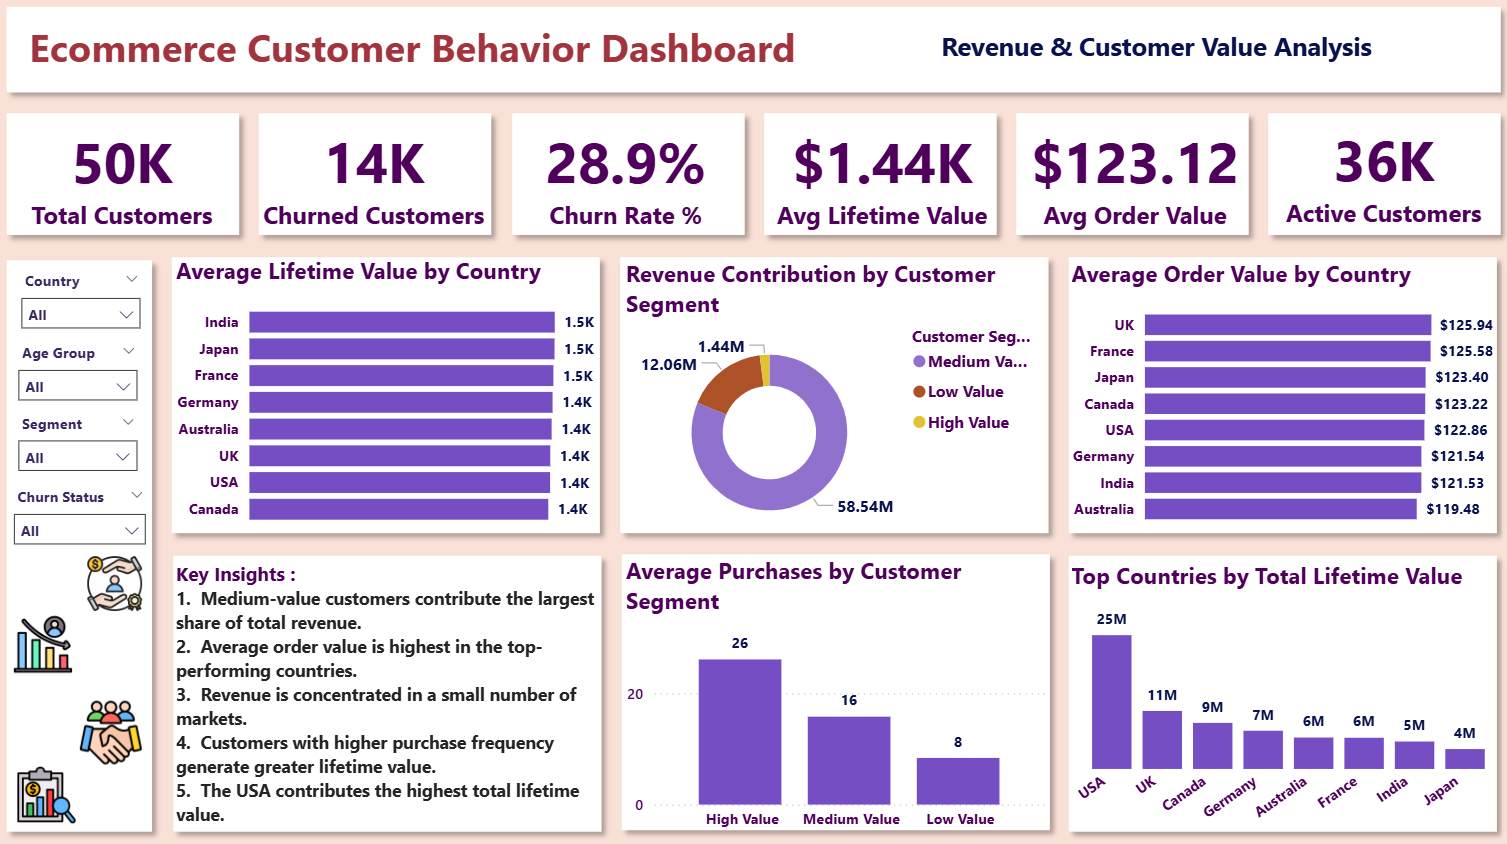

This screenshot's page, from the dashboard's own definition file:
{"tool":"powerbi","page":{"name":"Revenue & Customer Value Analysis.","canvas":[1280,720],"ordinal":3},"visuals":[{"type":"shape","box":[7.6,0,1265.9,89.3],"z":0},{"type":"shape","box":[850.7,89.3,212,119.6],"z":1000},{"type":"textbox","box":[16.7,15.1,678.4,60.6],"z":2000},{"type":"shape","box":[429.1,89.3,212,119.6],"z":3000},{"type":"shape","box":[639.9,89.3,212,119.6],"z":4000},{"type":"shape","box":[1061.5,89.3,212,119.6],"z":5000},{"type":"shape","box":[7.6,212,139.3,495.1],"z":6000},{"type":"shape","box":[145.9,209,375.5,248.3],"z":7000},{"type":"shape","box":[7.6,89.3,212,119.6],"z":8000},{"type":"shape","box":[218.4,89.3,212,119.6],"z":9000},{"type":"card","fields":{"Values":["customer_behavior.Total Customer"]},"box":[16.7,96.9,192.3,106],"z":10000},{"type":"card","fields":{"Values":["customer_behavior.Churned Customers"]},"box":[221.1,96.9,204.4,106],"z":11000},{"type":"card","fields":{"Values":["customer_behavior.Churn Rate %"]},"box":[431.5,96.9,204.4,106],"z":12000},{"type":"card","fields":{"Values":["customer_behavior.Avg Lifetime Value"]},"box":[645.1,96.9,204.4,106],"z":13000},{"type":"card","fields":{"Values":["customer_behavior.Avg Order Value"]},"box":[855.5,96.9,205.9,106],"z":14000},{"type":"card","fields":{"Values":["customer_behavior.Active Customers"]},"box":[1064.2,94.7,205.3,105.8],"z":15000},{"type":"shape","box":[520.4,209,375.5,248.3],"z":16000},{"type":"shape","box":[894.9,209,375.5,248.3],"z":17000},{"type":"textbox","box":[787.4,21.2,380.1,48.5],"z":18000},{"type":"slicer","fields":{"Values":["customer_behavior.Country"]},"box":[18.2,224.1,119.6,60.6],"z":19000},{"type":"slicer","fields":{"Values":["customer_behavior.Age Group"]},"box":[16.7,284.7,119.6,60.6],"z":20000},{"type":"slicer","fields":{"Values":["customer_behavior.Customer Segment"]},"box":[16.3,343.3,119,61.4],"z":21000},{"type":"slicer","fields":{"Values":["customer_behavior.Churn Status"]},"box":[12.1,404.3,130.2,66.6],"z":22000},{"type":"image","box":[77.2,460.3,57.5,62.1],"z":23000},{"type":"image","box":[71.2,583,63.6,65.1],"z":24000},{"type":"image","box":[15.1,511.8,63.6,60.6],"z":25000},{"type":"image","box":[19.7,637.5,59.1,59.1],"z":26000},{"type":"shape","box":[146.9,458.8,375.5,248.3],"z":27000},{"type":"shape","box":[520.9,457.3,375.5,248.3],"z":28000},{"type":"shape","box":[894.9,458.8,375.5,248.3],"z":29000},{"type":"clusteredBarChart","title":"Average Lifetime Value by Country","fields":{"Category":["customer_behavior.Country"],"Y":["Avg(customer_behavior.Lifetime_Value)"]},"box":[152.9,216.5,361.9,234.7],"z":30000},{"type":"clusteredBarChart","title":"Average Order Value by Country","fields":{"Y":["customer_behavior.Avg Order Value"],"Category":["customer_behavior.Country"]},"box":[901,219.6,361.9,231.7],"z":31000},{"type":"donutChart","title":"Revenue Contribution by Customer Segment","fields":{"Category":["customer_behavior.Customer Segment"],"Y":["Sum(customer_behavior.Lifetime_Value)"]},"box":[528.5,219.6,361.9,240.8],"z":32000},{"type":"columnChart","title":"Top Countries by Total Lifetime Value","fields":{"Category":["customer_behavior.Country"],"Y":["Sum(customer_behavior.Lifetime_Value)"]},"box":[901,470.9,372.5,236.2],"z":33000},{"type":"clusteredColumnChart","title":"Average Purchases by Customer Segment","fields":{"Category":["customer_behavior.Customer Segment"],"Y":["Avg(customer_behavior.Total_Purchases)"]},"box":[528.5,467.9,361.9,237.7],"z":34000},{"type":"textbox","box":[152.5,465.9,369.3,253.2],"z":35000}]}

Visuals, with their boxes in screenshot pixels (x1, y1, x2, y2), scaled from the page's 1280x720 canvas onto the 1507x844 screenshot:
shape: (9, 0, 1499, 105)
shape: (1002, 105, 1251, 245)
textbox: (20, 18, 818, 89)
shape: (505, 105, 755, 245)
shape: (753, 105, 1003, 245)
shape: (1250, 105, 1499, 245)
shape: (9, 249, 173, 829)
shape: (172, 245, 614, 536)
shape: (9, 105, 259, 245)
shape: (257, 105, 507, 245)
card - customer_behavior.Total Customer: (20, 114, 246, 238)
card - customer_behavior.Churned Customers: (260, 114, 501, 238)
card - customer_behavior.Churn Rate %: (508, 114, 749, 238)
card - customer_behavior.Avg Lifetime Value: (760, 114, 1000, 238)
card - customer_behavior.Avg Order Value: (1007, 114, 1250, 238)
card - customer_behavior.Active Customers: (1253, 111, 1495, 235)
shape: (613, 245, 1055, 536)
shape: (1054, 245, 1496, 536)
textbox: (927, 25, 1375, 82)
slicer - customer_behavior.Country: (21, 263, 162, 334)
slicer - customer_behavior.Age Group: (20, 334, 160, 405)
slicer - customer_behavior.Customer Segment: (19, 402, 159, 474)
slicer - customer_behavior.Churn Status: (14, 474, 168, 552)
image: (91, 540, 159, 612)
image: (84, 683, 159, 760)
image: (18, 600, 93, 671)
image: (23, 747, 93, 817)
shape: (173, 538, 615, 829)
shape: (613, 536, 1055, 827)
shape: (1054, 538, 1496, 829)
"Average Lifetime Value by Country" clusteredBarChart: (180, 254, 606, 529)
"Average Order Value by Country" clusteredBarChart: (1061, 257, 1487, 529)
"Revenue Contribution by Customer Segment" donutChart: (622, 257, 1048, 540)
"Top Countries by Total Lifetime Value" columnChart: (1061, 552, 1499, 829)
"Average Purchases by Customer Segment" clusteredColumnChart: (622, 548, 1048, 827)
textbox: (180, 546, 614, 843)
